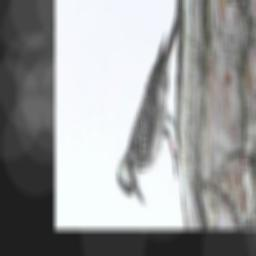Woodpecker: (115, 0, 182, 205)
